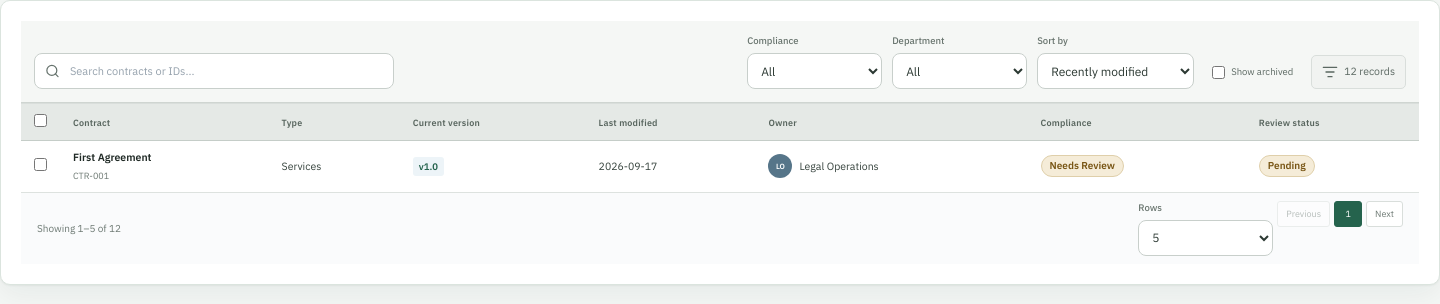
Test case: ContractRegister › requests the next server page and renders its records
This screenshot has width=1440, height=304.
Expected: the text "First Agreement" is shown, [73,150,152,164]
Click the button with aria-label "Next page" at point(1385, 214), box [1366,200,1403,226]
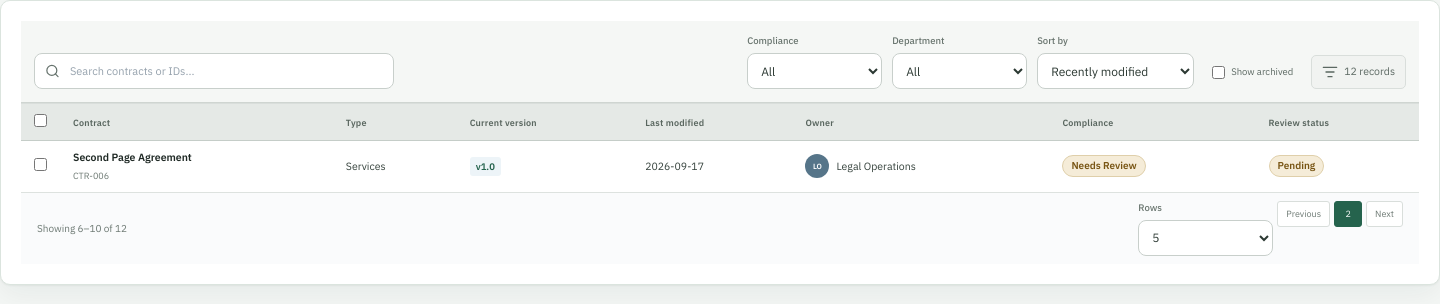
Expected: the text "Second Page Agreement" is shown, [73,150,192,164]
